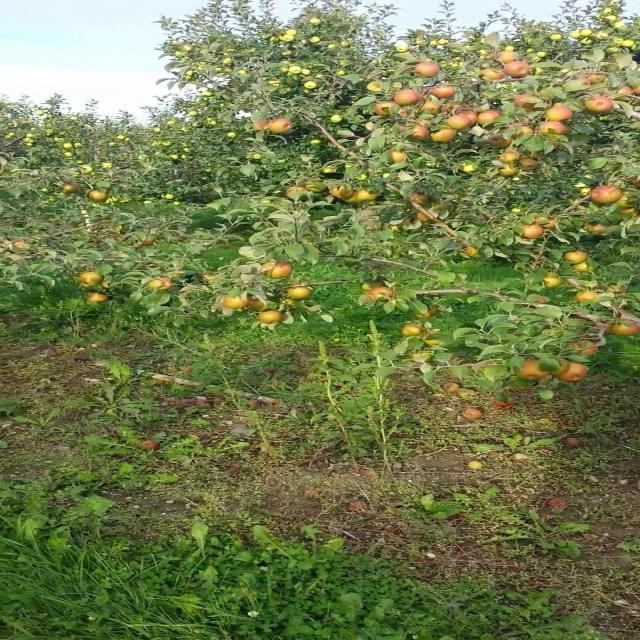apple: (518, 360, 553, 380), (554, 364, 590, 382), (589, 188, 626, 204), (568, 340, 599, 356), (262, 264, 292, 280), (518, 224, 548, 240), (589, 96, 615, 113), (504, 64, 533, 79), (532, 216, 560, 231), (447, 116, 475, 131), (454, 112, 480, 128), (433, 128, 457, 144), (547, 108, 576, 121), (476, 112, 505, 125), (518, 96, 539, 112), (355, 188, 379, 202), (611, 324, 638, 336), (540, 124, 569, 135), (269, 120, 293, 133), (397, 92, 423, 104), (490, 136, 514, 149), (269, 120, 292, 133), (369, 288, 396, 299), (376, 104, 400, 116), (84, 292, 108, 304), (582, 72, 606, 84), (227, 296, 249, 309), (483, 68, 505, 81), (262, 312, 284, 324), (419, 64, 441, 76), (291, 288, 313, 300), (433, 88, 455, 100), (248, 300, 270, 312), (575, 292, 599, 303), (568, 252, 590, 264), (497, 152, 519, 164), (483, 112, 505, 124), (518, 160, 540, 172), (419, 308, 441, 320), (284, 188, 308, 199), (333, 188, 354, 200), (419, 104, 441, 115), (148, 280, 172, 290), (511, 128, 535, 138), (419, 212, 439, 224), (390, 152, 409, 164), (404, 324, 423, 336), (84, 272, 103, 284), (589, 224, 608, 236), (540, 220, 560, 231), (497, 52, 517, 63), (412, 128, 430, 140), (511, 116, 532, 126), (547, 276, 564, 288), (497, 168, 519, 177), (461, 248, 482, 257), (255, 120, 270, 132), (412, 196, 432, 205), (440, 104, 460, 113), (134, 240, 156, 248), (575, 264, 594, 272), (426, 336, 441, 346), (99, 280, 114, 290), (618, 88, 635, 96), (419, 120, 436, 128), (13, 240, 28, 249), (284, 300, 299, 309), (433, 204, 446, 214), (92, 192, 108, 200), (532, 296, 548, 304), (397, 124, 411, 133), (63, 184, 78, 192), (390, 224, 405, 232), (419, 120, 436, 127), (625, 208, 638, 217), (84, 284, 96, 292), (205, 276, 217, 281)
